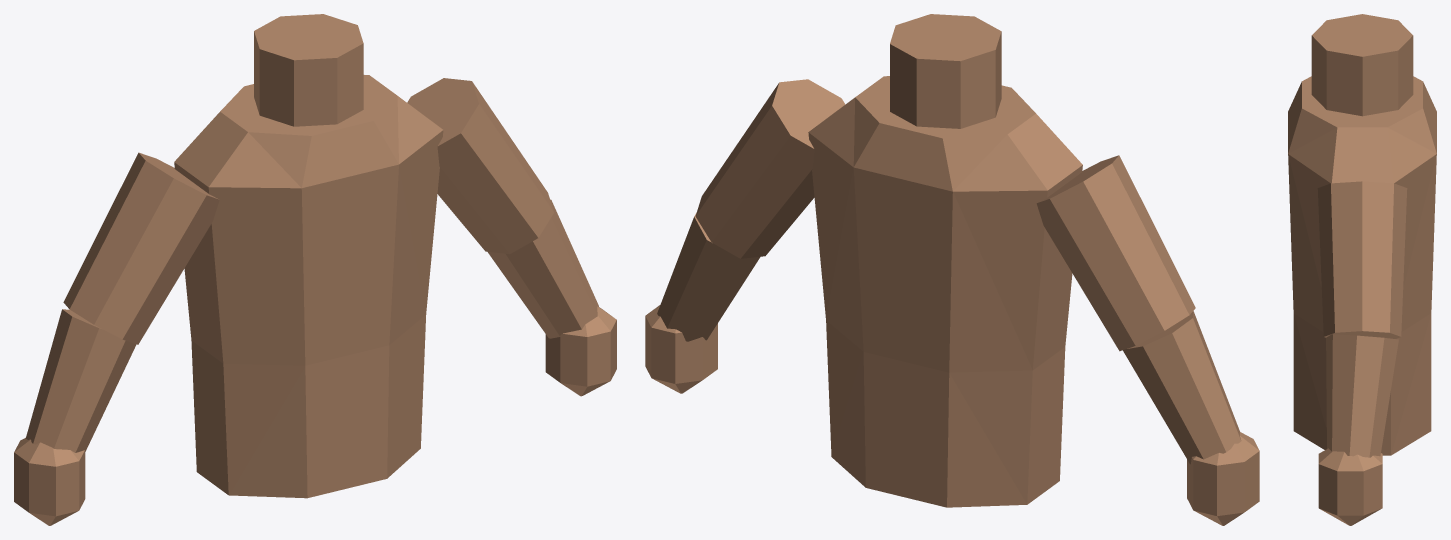
File: NPC_Body_01_Female.glb
3 renders of one model, left to right at view 1: azimuth 30°, elevation 25°; view 2: azimuth 150°, elevation 25°; view 3: azimuth 270°, elevation 25°, orthographic. The views are drawn at different scales.
Visible parts, largest first — view 1: NPC_Body_01_Female; view 2: NPC_Body_01_Female; view 3: NPC_Body_01_Female.
Part boxes in pixels (x1,y1,x2,y2): NPC_Body_01_Female: [14, 14, 616, 525]; NPC_Body_01_Female: [645, 14, 1259, 525]; NPC_Body_01_Female: [1288, 14, 1436, 525].
Bounding box in the file's own units: 1.02 × 0.7 × 0.2494.
